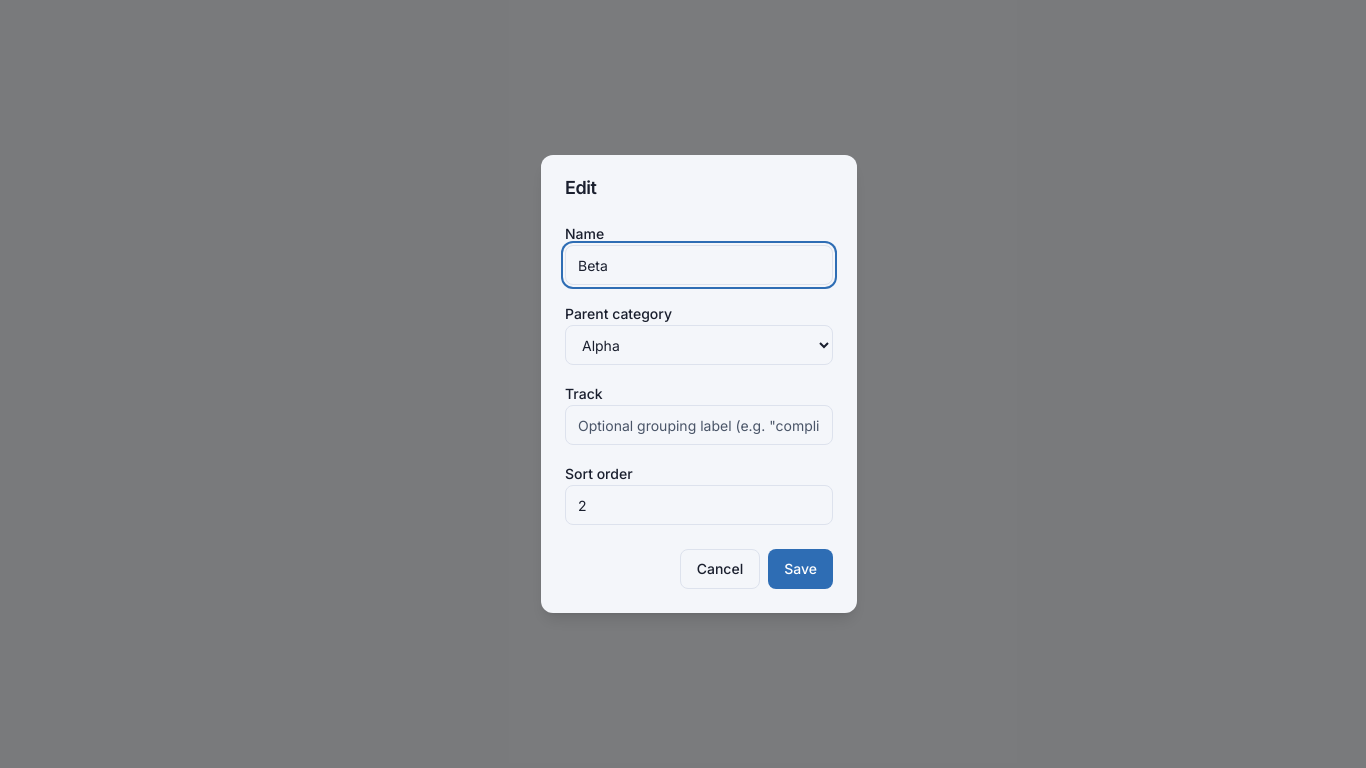
Test: CategoryEditModal - edit mode › shows the cycle error when the API rejects the new parent
The width and height of the screenshot is (1366, 768).
Select "Delta" in the dropdown labelled "Parent category" at coordinates (699, 345), box x1=565 y1=325 x2=833 y2=365
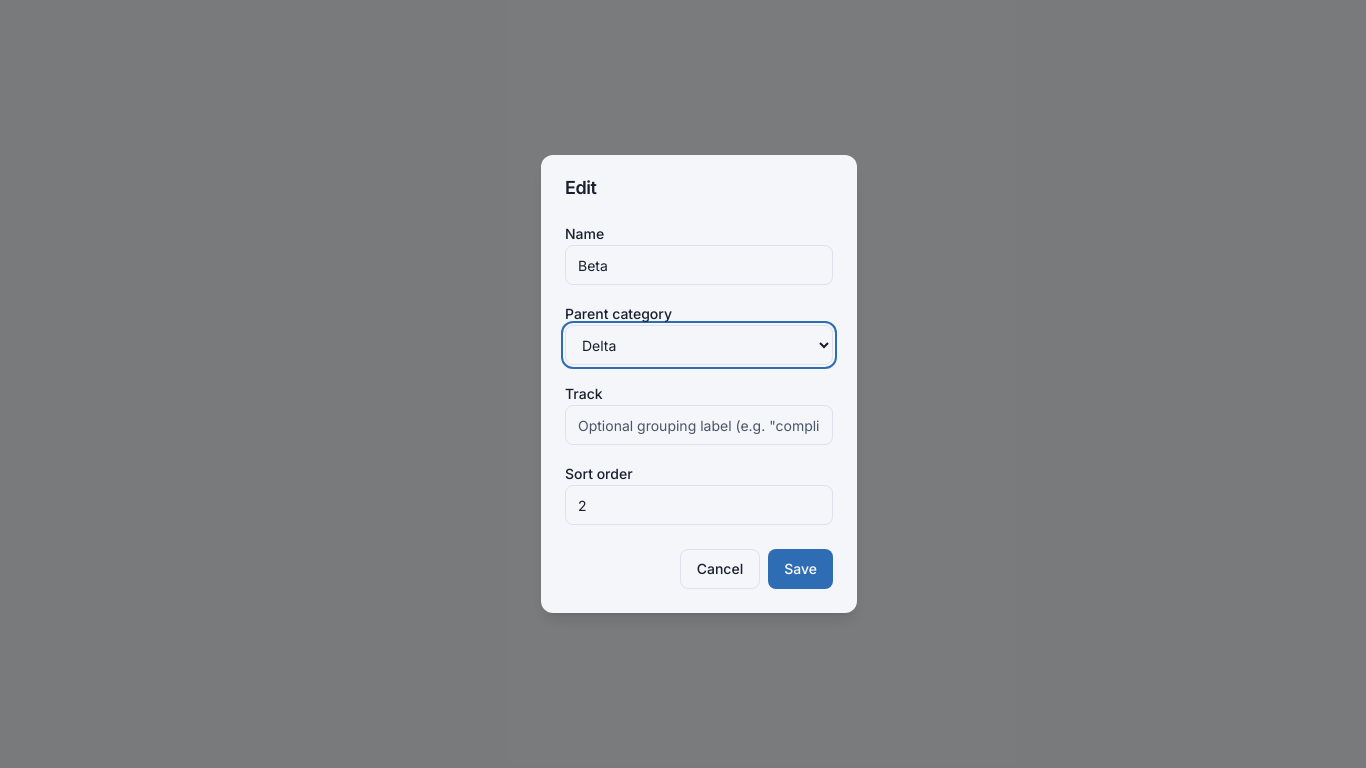
Click the button "Save" at coordinates (801, 569), box x1=768 y1=549 x2=833 y2=589
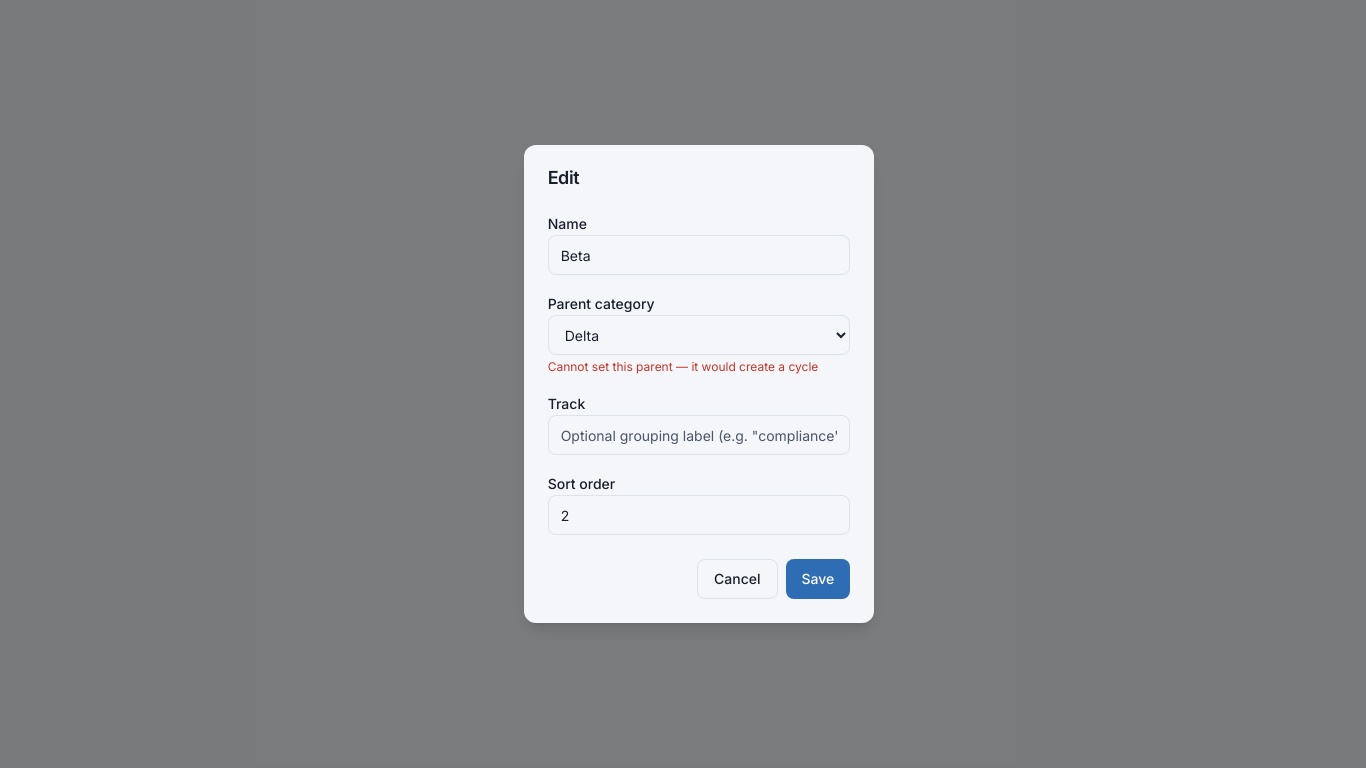
Expected: the text "Cannot set this parent — it would create a cycle" is shown, x1=548 y1=359 x2=850 y2=375
